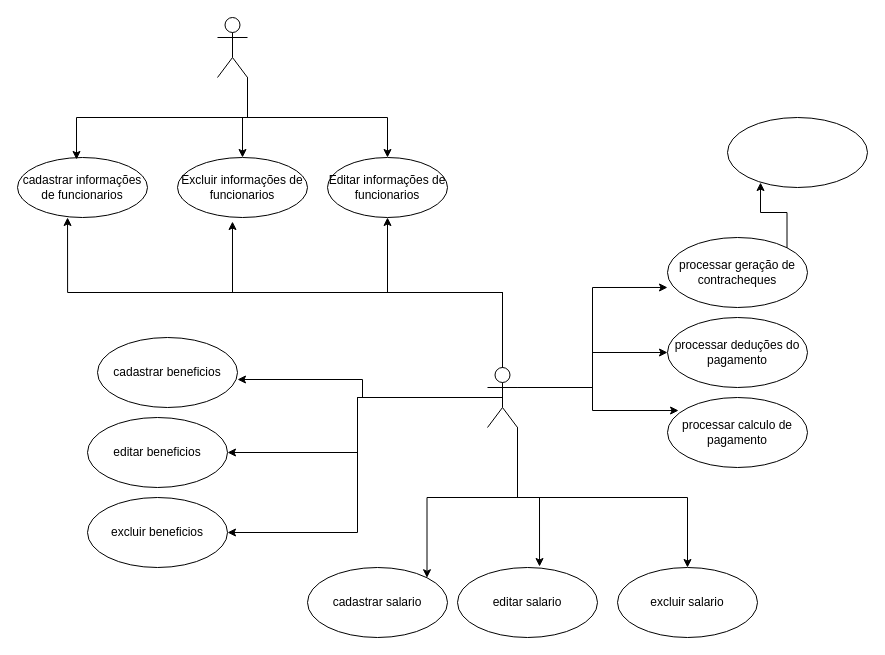
The diagram is 885 pixels wide and 655 high, and some of its shapes have lost their labels. Each missing label, with the box of its shape:
enviar contracheques automaticamente por email: (726, 116, 868, 188)
Gerencia: (216, 16, 248, 78)
RecorsosHumanos: (486, 366, 518, 428)
